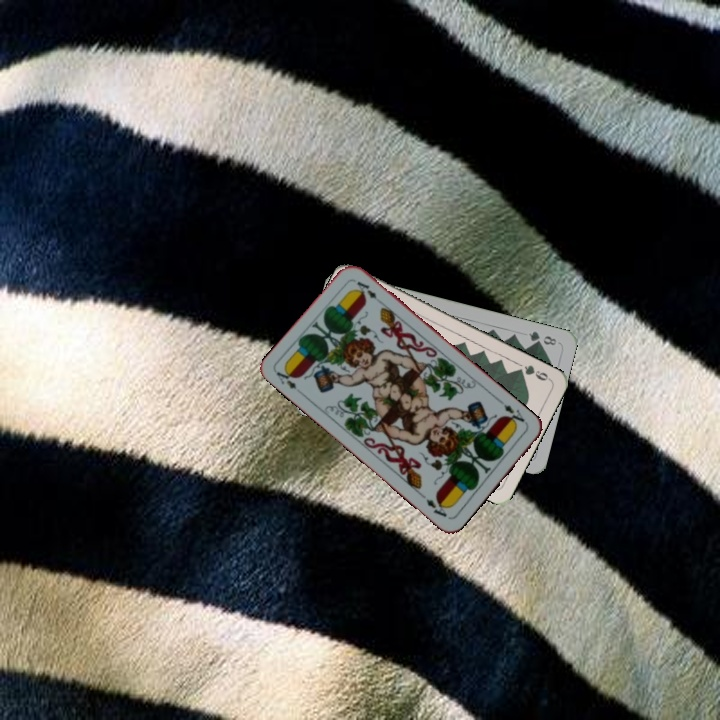EA: (495, 396, 529, 429), (272, 365, 299, 391)
G8: (525, 327, 559, 348)
G9: (512, 361, 553, 383)
